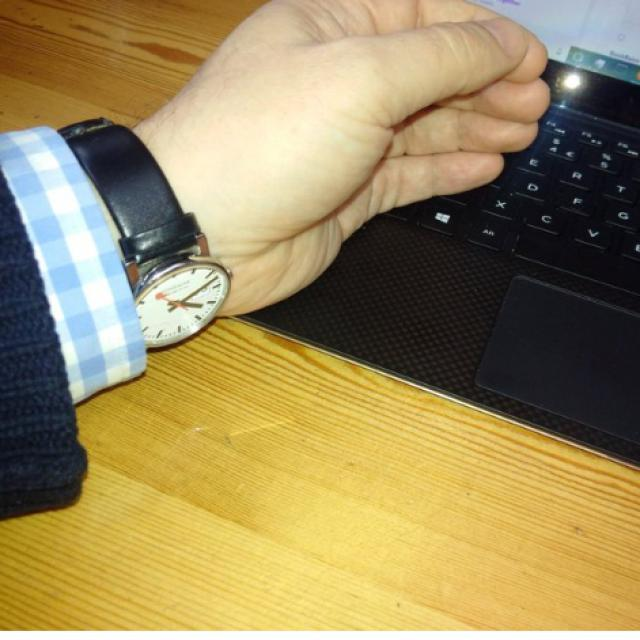Watch: (56, 113, 235, 354)
